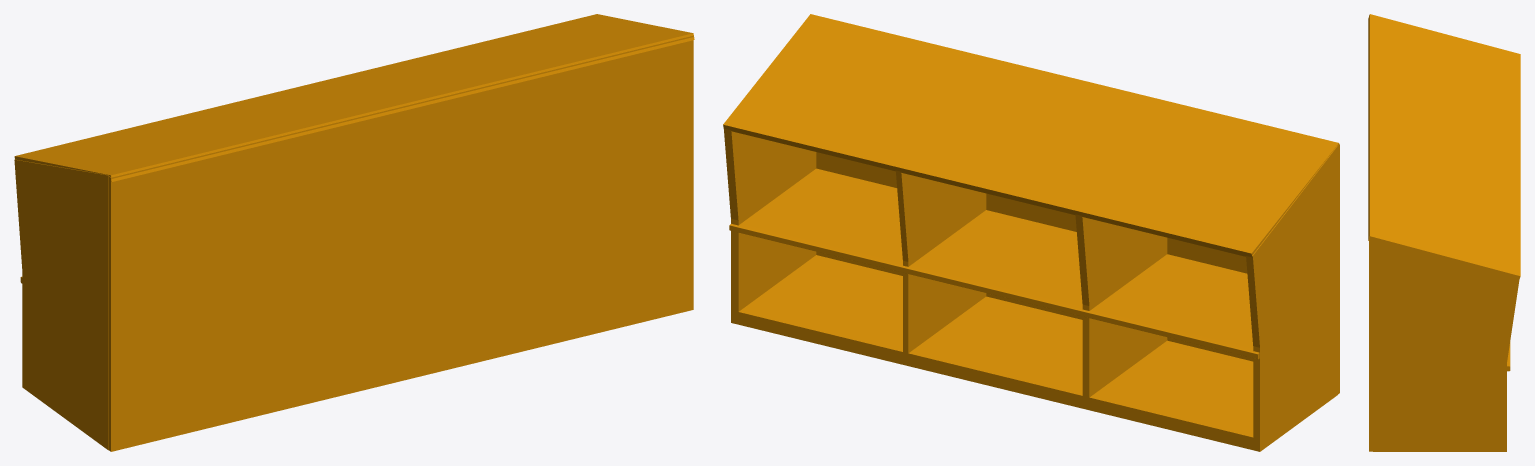
File: cornerTable.fbx
The picture shows the model from 3 angles, left to right: view 1: azimuth 30°, elevation 25°; view 2: azimuth 150°, elevation 25°; view 3: azimuth 270°, elevation 25°; orthographic projection. The views are drawn at different scales.
Parts seen in each view (by area): view 1: Cube.001, Cube.002, Cube; view 2: Cube, Cube.002, Cube.001; view 3: Cube.002, Cube, Cube.001.
Boxes of the visible parts, <box> form: Cube.001: <box>20,35,693,451</box>; Cube.002: <box>14,14,694,181</box>; Cube: <box>14,159,108,450</box>; Cube: <box>724,128,1337,451</box>; Cube.002: <box>723,14,1339,257</box>; Cube.001: <box>729,144,1339,394</box>; Cube.002: <box>1368,14,1520,280</box>; Cube: <box>1373,242,1519,451</box>; Cube.001: <box>1369,15,1510,451</box>.
Size of the model in its own units: 242 by 109 by 69.96.
